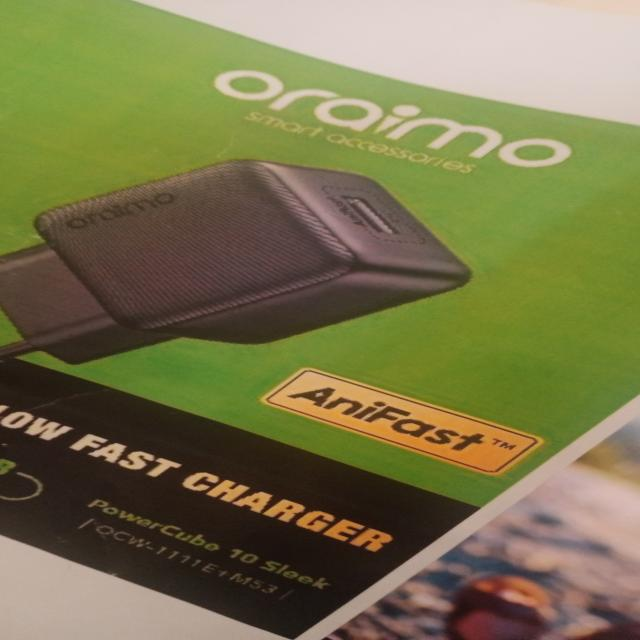PowerCube 10 Sleek OCW-1111ExL53: (68, 491, 355, 606)
